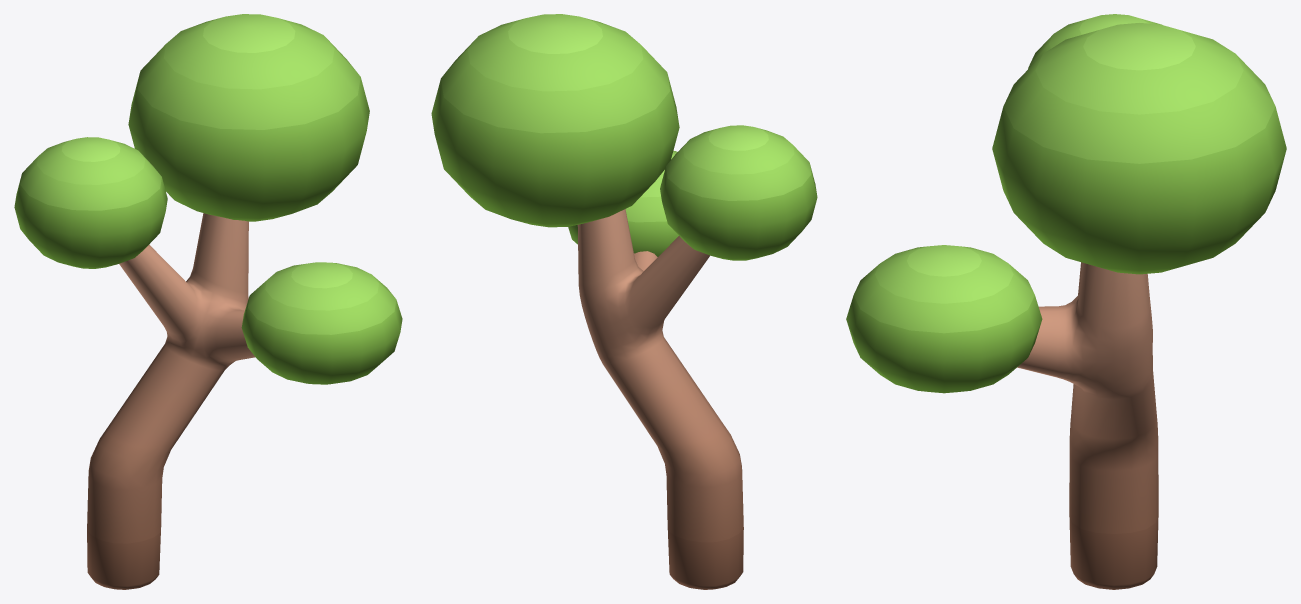
Rendered from tree_fur_2.fbx.
3 renders of one model, left to right at view 1: azimuth 30°, elevation 25°; view 2: azimuth 150°, elevation 25°; view 3: azimuth 270°, elevation 25°, orthographic. The views are drawn at different scales.
Visible parts, largest first — view 1: tree_fur_2; view 2: tree_fur_2; view 3: tree_fur_2.
Boxes of the visible parts, x1,y1,x2,y2 form: tree_fur_2: [14, 14, 402, 589]; tree_fur_2: [431, 14, 817, 589]; tree_fur_2: [846, 14, 1286, 589].
Size of the model in its own units: 200 by 289 by 186.
